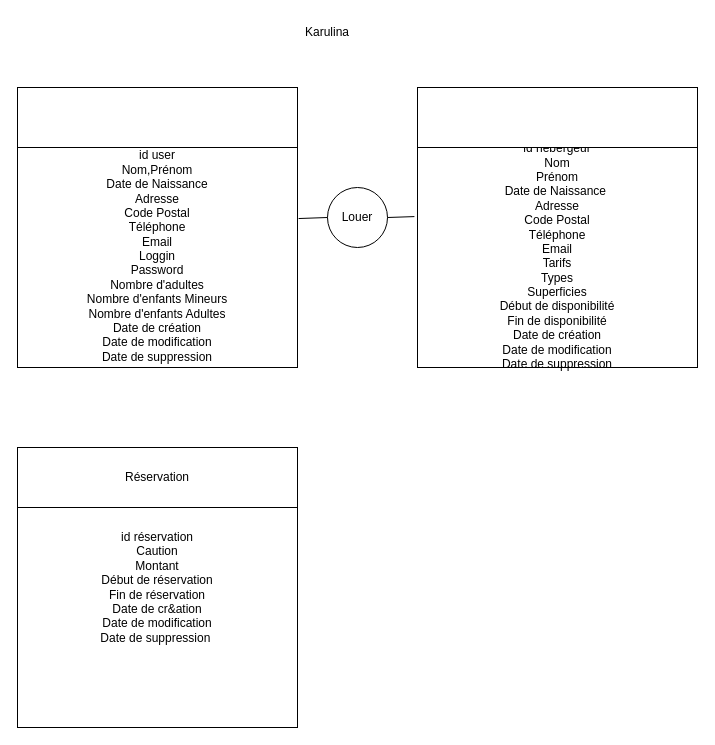
Some shapes in this 715 by 745 pixel diagram are drawn without their labels. Each missing label, with the centre of its shape:
"Hébergeur" goes at pixel 557 117.
"User" goes at pixel 157 117.
